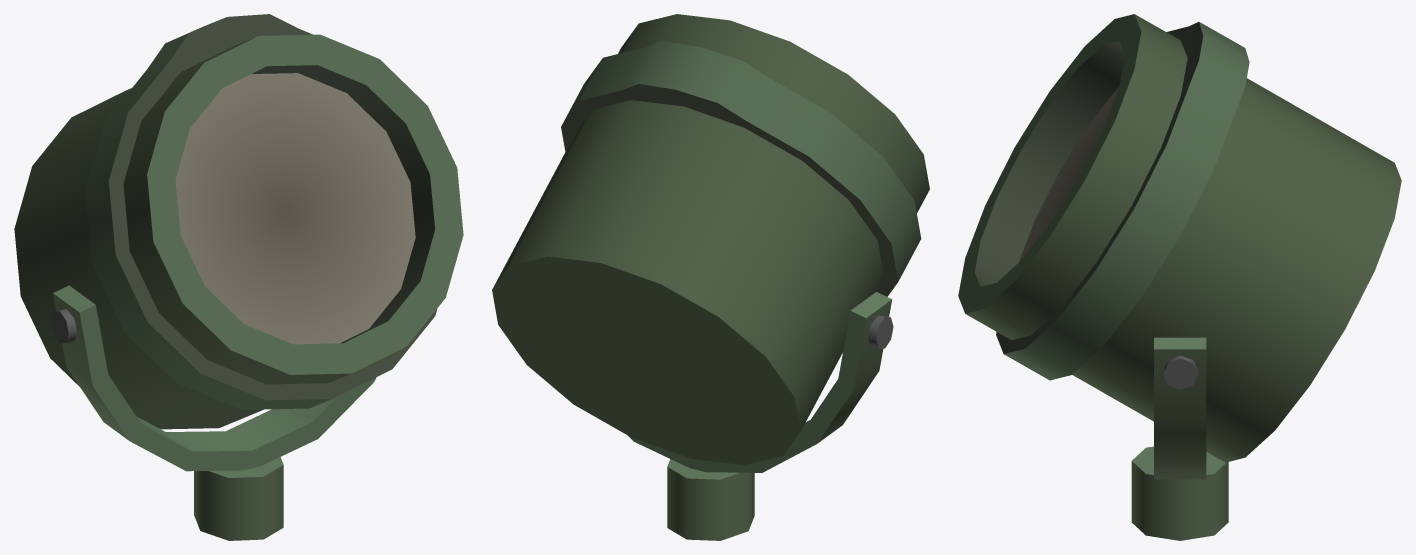
Rendered from StadiumSpotlight_Large.fbx.
3 views of the same model, side by side, from view 1: azimuth 30°, elevation 25°; view 2: azimuth 150°, elevation 25°; view 3: azimuth 270°, elevation 25° (orthographic). The views are drawn at different scales.
Parts seen in each view (by area): view 1: StadiumSpotlight_Large; view 2: StadiumSpotlight_Large; view 3: StadiumSpotlight_Large.
Boxes of the visible parts, bbox=[...] form: StadiumSpotlight_Large: bbox=[14, 14, 463, 540]; StadiumSpotlight_Large: bbox=[492, 14, 929, 540]; StadiumSpotlight_Large: bbox=[958, 14, 1401, 540].
Bounding box in the file's own units: 294 × 395 × 323.
